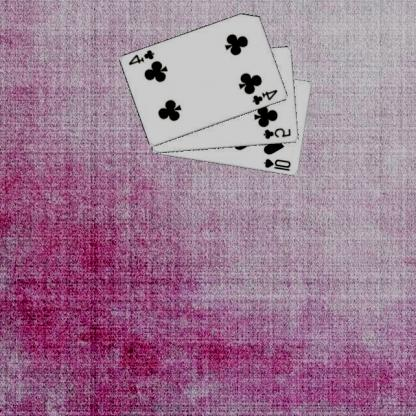10S: (263, 156, 294, 172)
4C: (128, 47, 158, 67), (251, 87, 280, 106)
5C: (263, 126, 294, 140)
